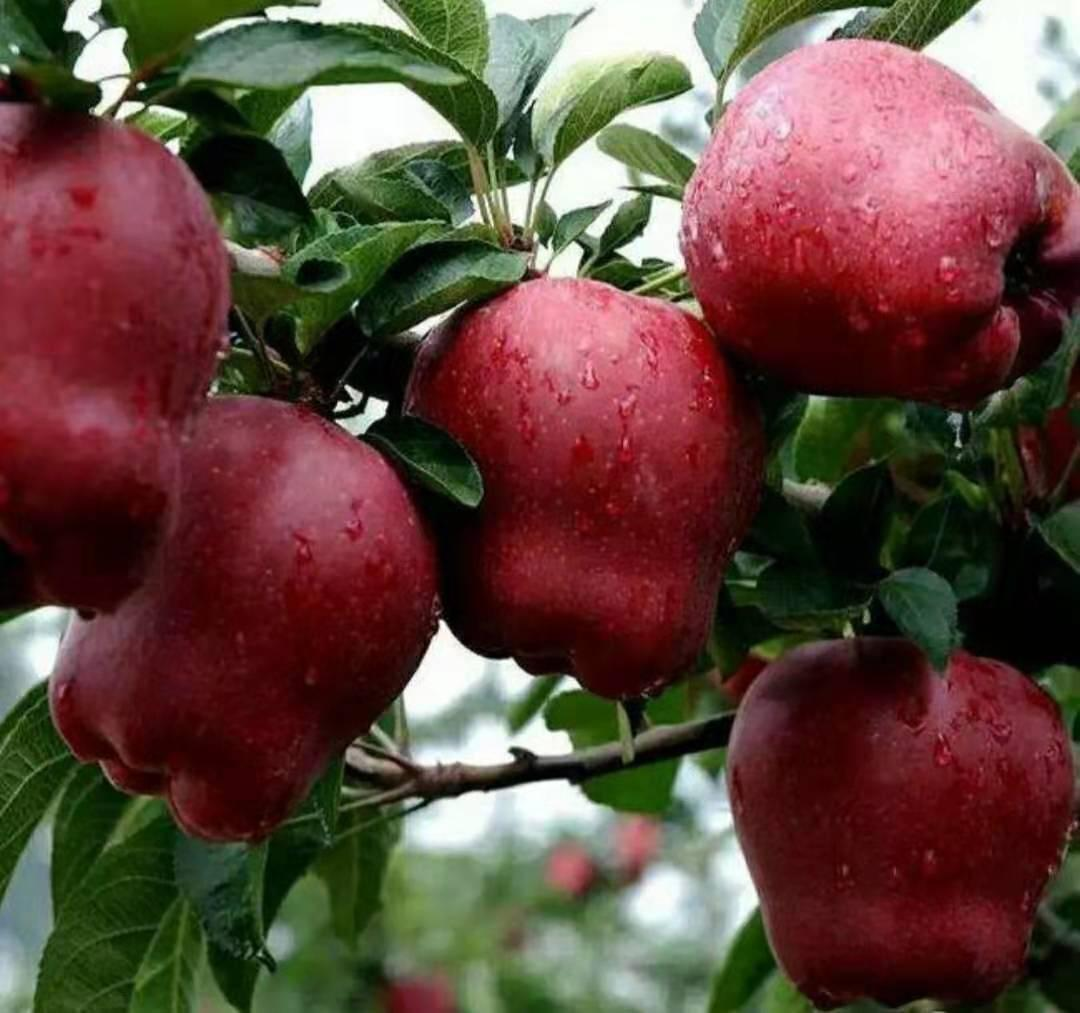apple: (45, 385, 436, 842), (400, 273, 763, 709), (681, 37, 1076, 405), (725, 637, 1074, 1000), (1, 78, 224, 627)
